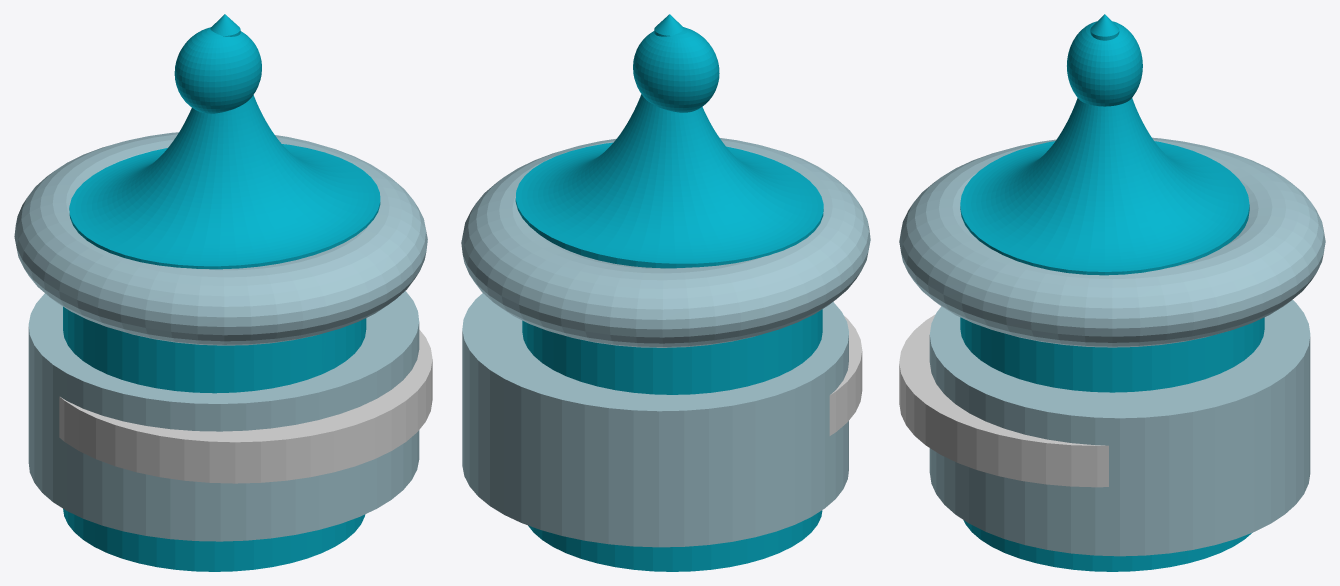
The model's file is Emma - Baby Bottle Candy.glb.
3 views of the same model, side by side, from view 1: azimuth 30°, elevation 25°; view 2: azimuth 150°, elevation 25°; view 3: azimuth 270°, elevation 25° (orthographic).
Parts seen in each view (by area): view 1: Mesh_Mesh_head_geo.001_lambert2SG.001; view 2: Mesh_Mesh_head_geo.001_lambert2SG.001; view 3: Mesh_Mesh_head_geo.001_lambert2SG.001.
Part boxes in pixels (<box>): Mesh_Mesh_head_geo.001_lambert2SG.001: <box>14,14,432,571</box>; Mesh_Mesh_head_geo.001_lambert2SG.001: <box>461,14,870,571</box>; Mesh_Mesh_head_geo.001_lambert2SG.001: <box>899,14,1325,571</box>.
Bounding box in the file's own units: 0.027 × 0.036 × 0.028.
